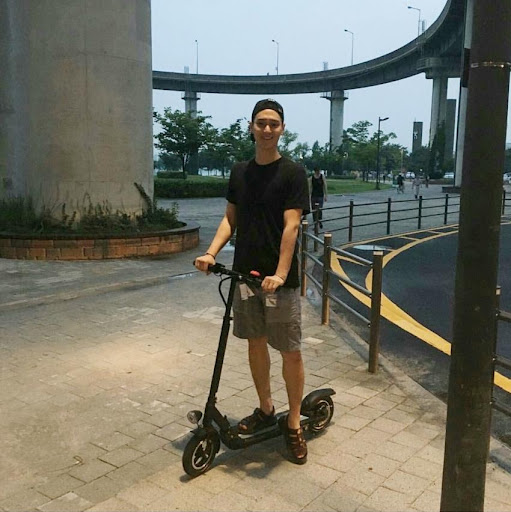scooter: (182, 259, 334, 477)
